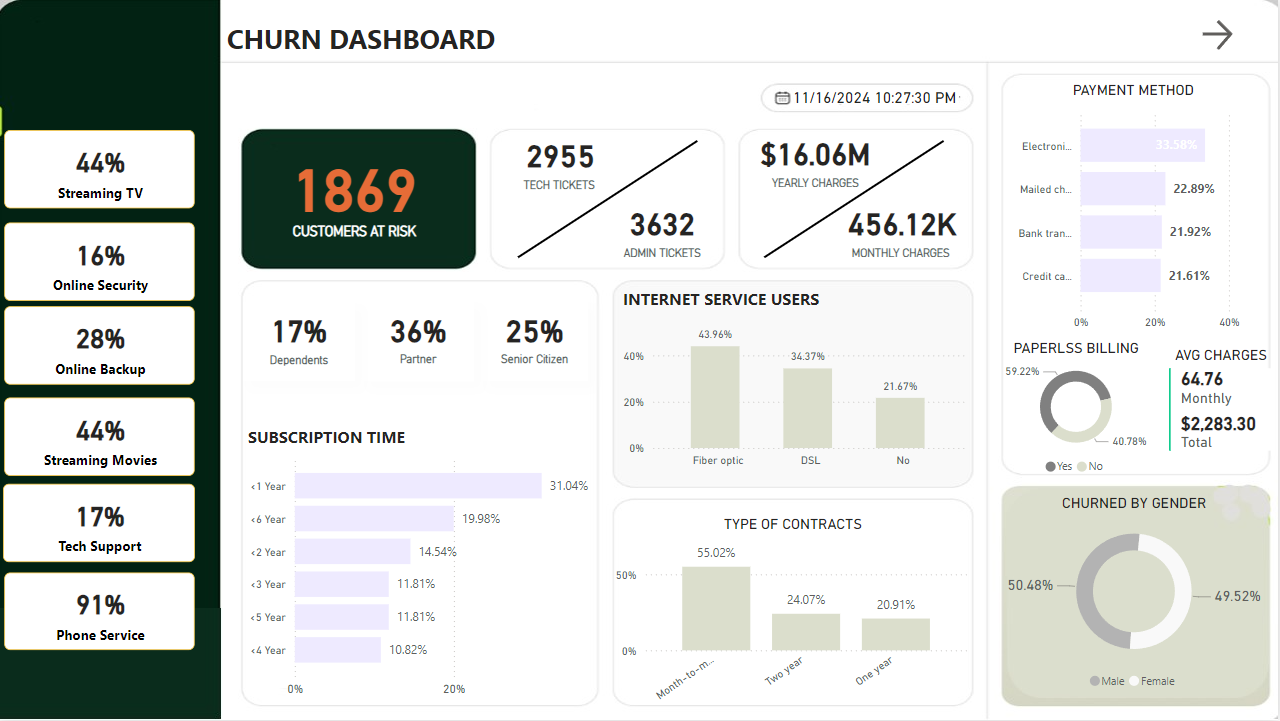

What the dashboard file says about the page in this screenshot:
{"tool":"powerbi","page":{"name":"Page 1","canvas":[1280,720],"ordinal":0},"visuals":[{"type":"card","fields":{"Values":["Churn.% Phone Service"]},"box":[6,572.1,190.6,77.2],"z":0},{"type":"card","fields":{"Values":["Churn.% Tech Support"]},"box":[4.8,484,191.8,78.4],"z":1000},{"type":"clusteredBarChart","title":"PAYMENT METHOD","fields":{"Y":["CountNonNull(Churn.PaymentMethod)"],"Category":["Churn.PaymentMethod"]},"box":[1003.8,71.2,263,265.4],"z":2000},{"type":"donutChart","title":"PAPERLSS BILLING","fields":{"Category":["Churn.PaperlessBilling"],"Y":["CountNonNull(Churn.PaperlessBilling)"]},"box":[957.9,328.2,241.3,160.5],"z":3000},{"type":"multiRowCard","title":"AVG CHARGES","fields":{"Values":["Avg(Churn.MonthlyCharges)","Avg(Churn.TotalCharges)"]},"box":[1166.6,336.6,113.4,162.9],"z":4000},{"type":"columnChart","title":"TYPE OF CONTRACTS","fields":{"Category":["Churn.Contract"],"Y":["Divide(CountNonNull(Churn.Contract), ScopedEval(CountNonNull(Churn.Contract), []))"]},"box":[612.9,499.5,364.3,212.3],"z":5000},{"type":"columnChart","title":"INTERNET SERVICE USERS","fields":{"Category":["Churn.InternetService"],"Y":["Divide(CountNonNull(Churn.InternetService), ScopedEval(CountNonNull(Churn.InternetService), []))"]},"box":[620.1,272.7,354.7,207.5],"z":6000},{"type":"donutChart","title":"CHURNED BY GENDER","fields":{"Category":["01 Churn-Dataset.gender"],"Y":["CountNonNull(01 Churn-Dataset.gender)"]},"box":[994.1,483.8,284.7,219.6],"z":7000},{"type":"card","fields":{"Values":["Churn.% Streaming TV"]},"box":[6,130.5,190.6,78.4],"z":8000},{"type":"card","fields":{"Values":["Churn.% Streaming Movies"]},"box":[6,397.1,190.6,78.4],"z":9000},{"type":"card","fields":{"Values":["Churn.% of Senior Citizen"]},"box":[483.6,301.6,106.2,79.6],"z":10000},{"type":"card","fields":{"Values":["Churn.% of partner"]},"box":[364.7,301.6,111,79.6],"z":11000},{"type":"card","fields":{"Values":["Churn.% Online Backup"]},"box":[6,306.6,190.6,78.4],"z":12000},{"type":"card","fields":{"Values":["Churn.% Online Sec"]},"box":[6,222.2,190.6,78.4],"z":13000},{"type":"card","fields":{"Values":["Churn.% of Dependents"]},"box":[244.7,302.8,112.2,78.4],"z":14000},{"type":"clusteredBarChart","title":"SUBSCRIPTION TIME","fields":{"Y":["CountNonNull(Churn.Churn)"],"Category":["Churn.Tenure(in years)"]},"box":[244.9,415,365.6,288.3],"z":15000},{"type":"card","fields":{"Values":["CountNonNull(01 Churn-Dataset.customerID)"]},"box":[226.8,115.8,260.6,160.5],"z":16000},{"type":"card","fields":{"Values":["Sum(01 Churn-Dataset.numTechTickets)"]},"box":[466.9,129.1,190.6,76],"z":17000},{"type":"card","fields":{"Values":["Sum(01 Churn-Dataset.TotalCharges)"]},"box":[732.3,126.7,170.1,76],"z":18000},{"type":"card","fields":{"Values":["Sum(01 Churn-Dataset.numAdminTickets)"]},"box":[562.2,196.6,203.9,76],"z":19000},{"type":"card","fields":{"Values":["Sum(01 Churn-Dataset.MonthlyCharges)"]},"box":[816.8,196.6,176.1,76],"z":20000},{"type":"shape","box":[497.1,139.9,224.4,118.2],"z":21000},{"type":"shape","box":[744.4,139.9,224.4,118.2],"z":22000},{"type":"card","fields":{"Values":["Min(DATE.LAST REFRESH DATE)"]},"box":[720.2,66.4,313.7,65.1],"z":23000},{"type":"shape","box":[226.8,71.2,130.3,27.7],"z":24000},{"type":"textbox","box":[223.2,14.5,313.7,51.9],"z":25000},{"type":"actionButton","box":[1198.8,15,45,40],"z":25003}]}

Visuals, with their boxes in screenshot pixels (x1, y1, x2, y2), scaled from the page's 1280x720 canvas onto the 1280x721 screenshot:
card - Churn.% Phone Service: l=6, t=573, r=197, b=650
card - Churn.% Tech Support: l=5, t=485, r=197, b=563
"PAYMENT METHOD" clusteredBarChart: l=1004, t=71, r=1267, b=337
"PAPERLSS BILLING" donutChart: l=958, t=329, r=1199, b=489
"AVG CHARGES" multiRowCard: l=1167, t=337, r=1279, b=500
"TYPE OF CONTRACTS" columnChart: l=613, t=500, r=977, b=713
"INTERNET SERVICE USERS" columnChart: l=620, t=273, r=975, b=481
"CHURNED BY GENDER" donutChart: l=994, t=484, r=1279, b=704
card - Churn.% Streaming TV: l=6, t=131, r=197, b=209
card - Churn.% Streaming Movies: l=6, t=398, r=197, b=476
card - Churn.% of Senior Citizen: l=484, t=302, r=590, b=382
card - Churn.% of partner: l=365, t=302, r=476, b=382
card - Churn.% Online Backup: l=6, t=307, r=197, b=386
card - Churn.% Online Sec: l=6, t=223, r=197, b=301
card - Churn.% of Dependents: l=245, t=303, r=357, b=382
"SUBSCRIPTION TIME" clusteredBarChart: l=245, t=416, r=610, b=704
card - CountNonNull(01 Churn-Dataset.customerID): l=227, t=116, r=487, b=277
card - Sum(01 Churn-Dataset.numTechTickets): l=467, t=129, r=658, b=205
card - Sum(01 Churn-Dataset.TotalCharges): l=732, t=127, r=902, b=203
card - Sum(01 Churn-Dataset.numAdminTickets): l=562, t=197, r=766, b=273
card - Sum(01 Churn-Dataset.MonthlyCharges): l=817, t=197, r=993, b=273
shape: l=497, t=140, r=722, b=258
shape: l=744, t=140, r=969, b=258
card - Min(DATE.LAST REFRESH DATE): l=720, t=66, r=1034, b=132
shape: l=227, t=71, r=357, b=99
textbox: l=223, t=15, r=537, b=66
actionButton: l=1199, t=15, r=1244, b=55
